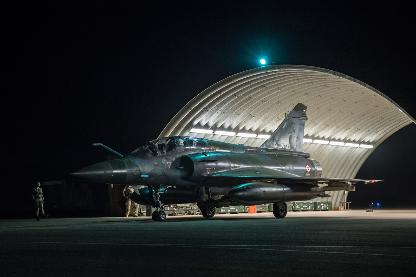Mirage2000: (67, 102, 384, 219)
